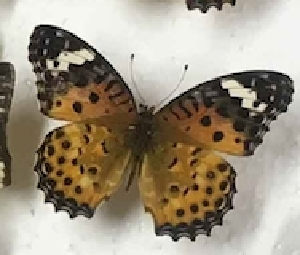Argyreus hyperbius: (25, 16, 297, 243)
butterfly: (27, 18, 299, 245)
